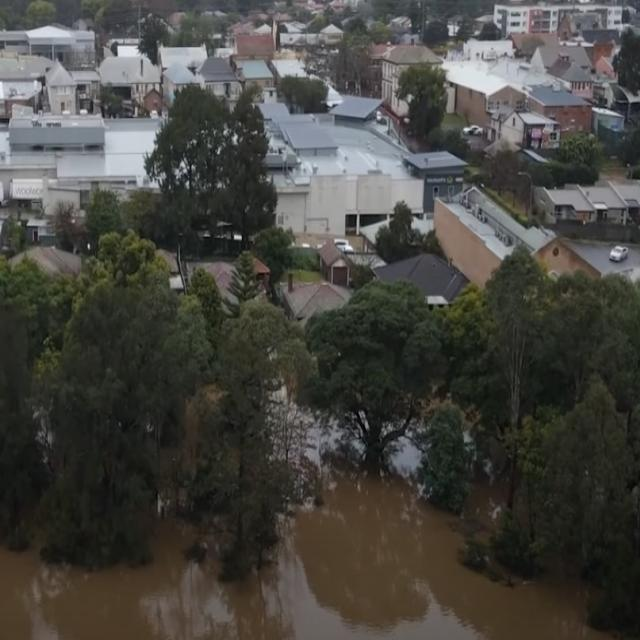flood: (0, 480, 621, 640)
house: (544, 180, 634, 240), (6, 108, 104, 158), (500, 106, 559, 148), (496, 2, 561, 36), (476, 80, 530, 116), (530, 45, 591, 74), (202, 56, 241, 97), (44, 61, 78, 106), (382, 42, 404, 110), (562, 58, 596, 98), (239, 56, 274, 90)
